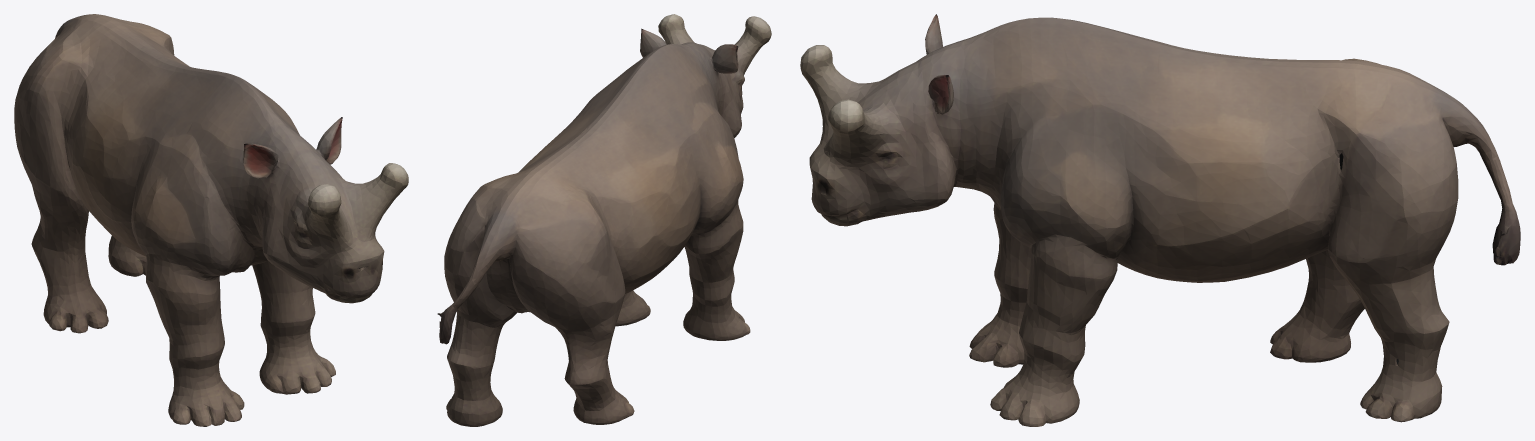
3 renders of one model, left to right at view 1: azimuth 30°, elevation 25°; view 2: azimuth 150°, elevation 25°; view 3: azimuth 270°, elevation 25°, orthographic. The views are drawn at different scales.
Visible parts, largest first — view 1: world; view 2: world; view 3: world.
Part boxes in pixels (x1,y1,x2,y2): world: [14, 14, 408, 426]; world: [437, 14, 771, 426]; world: [800, 14, 1520, 426].
Bounding box in the file's own units: 0.3396 × 0.555 × 1.
Materials: 1 (1 with a texture image).
